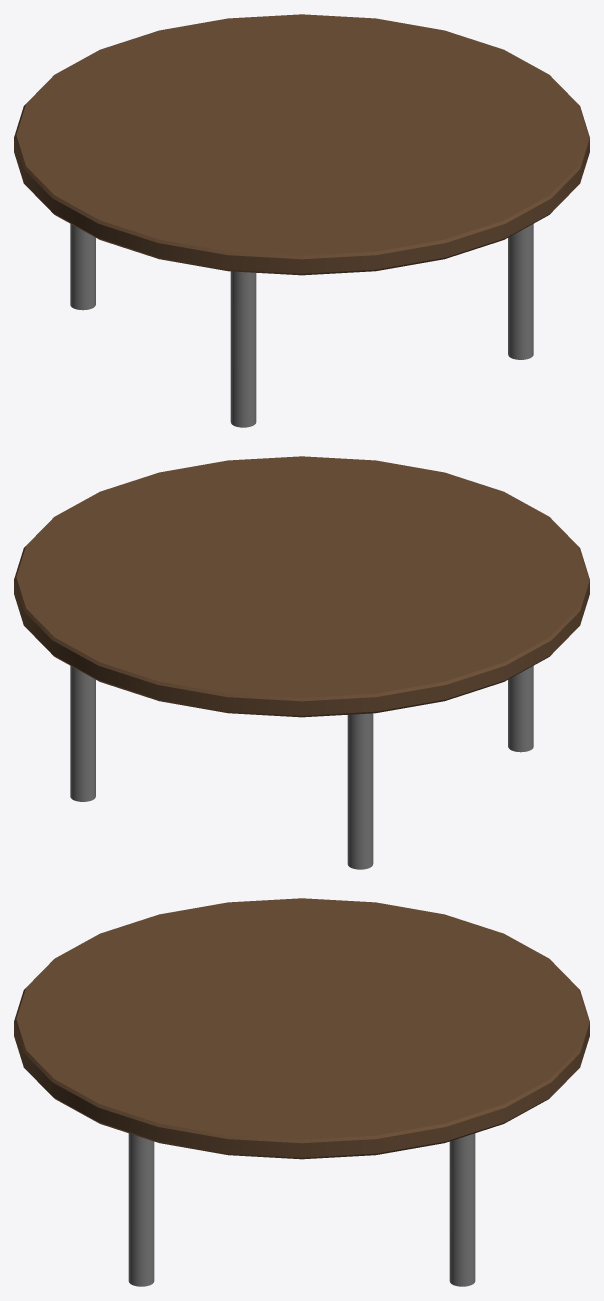
The model's file is Table.fbx.
3 views of the same model, one above another, from view 1: azimuth 30°, elevation 25°; view 2: azimuth 150°, elevation 25°; view 3: azimuth 270°, elevation 25° (orthographic).
Visible parts, largest first — view 1: Table; view 2: Table; view 3: Table.
Part boxes in pixels (x1,y1,x2,y2): Table: (14,14,589,427); Table: (14,456,589,869); Table: (14,898,589,1286).
Size of the model in its own units: 246 by 91.61 by 246.
